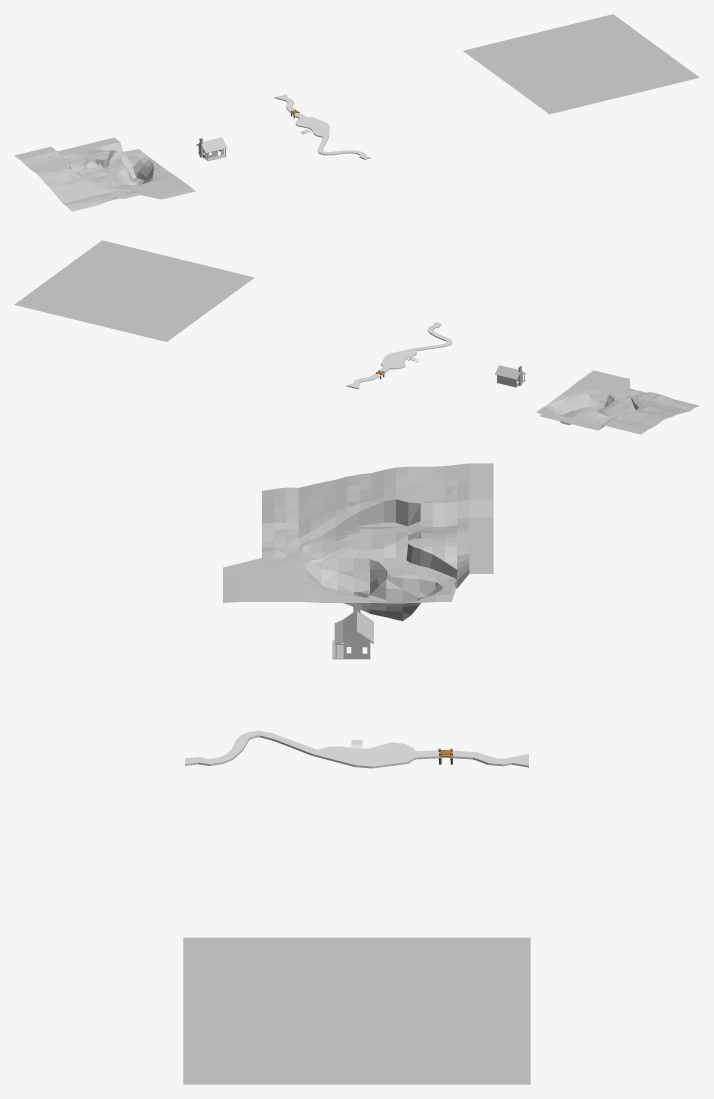
File: level2waterCollider.fbx
3 views of the same model, one above another, from view 1: azimuth 30°, elevation 25°; view 2: azimuth 150°, elevation 25°; view 3: azimuth 270°, elevation 25° (orthographic). The views are drawn at different scales.
Visible parts, largest first — view 1: Grid, Grid.001, Plane, Cube; view 2: Grid, Grid.001, Plane, Cube; view 3: Grid, Grid.001, Plane, Cube.
Boxes of the visible parts, x1,y1,x2,y2 form: Grid: [463, 14, 699, 114]; Grid.001: [14, 137, 195, 211]; Plane: [275, 94, 370, 158]; Cube: [196, 137, 227, 161]; Grid: [14, 240, 254, 341]; Grid.001: [536, 370, 699, 434]; Plane: [346, 322, 452, 388]; Cube: [495, 365, 526, 387]; Grid: [183, 937, 530, 1084]; Grid.001: [223, 463, 493, 621]; Plane: [185, 730, 528, 766]; Cube: [332, 603, 373, 659].
Size of the model in its own units: 60655 by 3282 by 15000.
